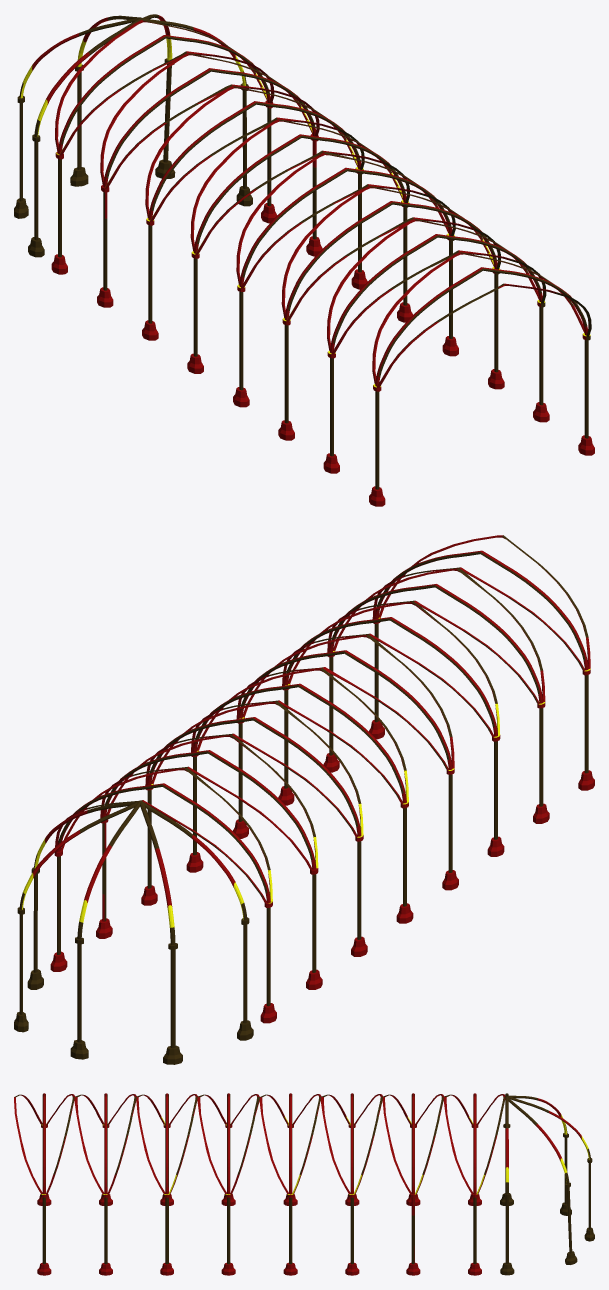
The model's file is finial beams.fbx.
3 renders of one model, top to bottom at view 1: azimuth 30°, elevation 25°; view 2: azimuth 150°, elevation 25°; view 3: azimuth 270°, elevation 25°, orthographic. The views are drawn at different scales.
Visible parts, largest first — view 1: pCylinder18, pCylinder13, pCylinder14, pCylinder15, pCylinder17, pCylinder16; view 2: pCylinder18, pCylinder14, pCylinder15, pCylinder13, pCylinder16, pCylinder17; view 3: pCylinder18, pCylinder17, pCylinder16, pCylinder15, pCylinder14.
Part boxes in pixels (box(x1,y1,x2,y2)): pCylinder18: box(51, 20, 594, 506); pCylinder13: box(28, 18, 141, 257); pCylinder14: box(14, 17, 137, 218); pCylinder15: box(70, 15, 141, 186); pCylinder17: box(141, 18, 252, 206); pCylinder16: box(142, 14, 175, 178); pCylinder18: box(50, 535, 594, 1023); pCylinder14: box(140, 802, 182, 1064); pCylinder15: box(70, 801, 140, 1059); pCylinder13: box(140, 800, 253, 1040); pCylinder16: box(14, 802, 137, 1032); pCylinder17: box(27, 801, 139, 989); pCylinder18: box(14, 1093, 505, 1275); pCylinder17: box(500, 1096, 514, 1275); pCylinder16: box(508, 1098, 577, 1264); pCylinder15: box(508, 1096, 594, 1241); pCylinder14: box(507, 1095, 571, 1215).
Bounding box in the file's own units: 782 × 708 × 2604.
